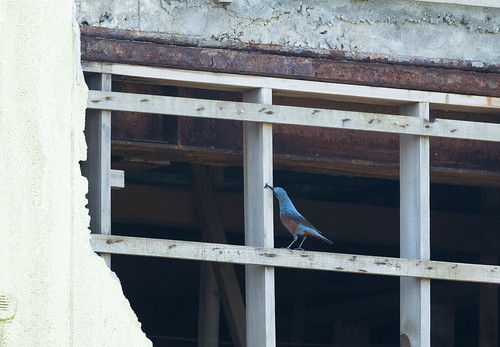animal: (269, 180, 331, 252)
